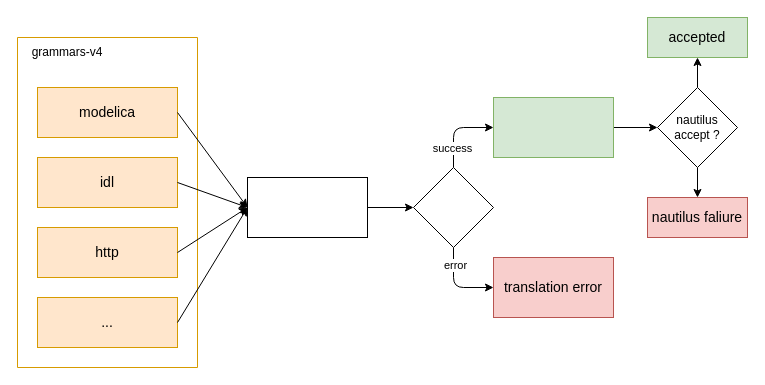
This 765x385 diagram has some shape labels left out. The shapes that lost their labels are listed below. From the top down, each one's centre as x and y in pixels, then its label:
point (553, 127): translated grammar
point (307, 207): babel ANTLR -> Nautilus
point (453, 207): can translate ?
